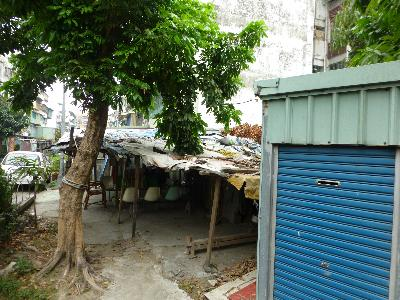plastic_bag: (100, 128, 264, 181)
